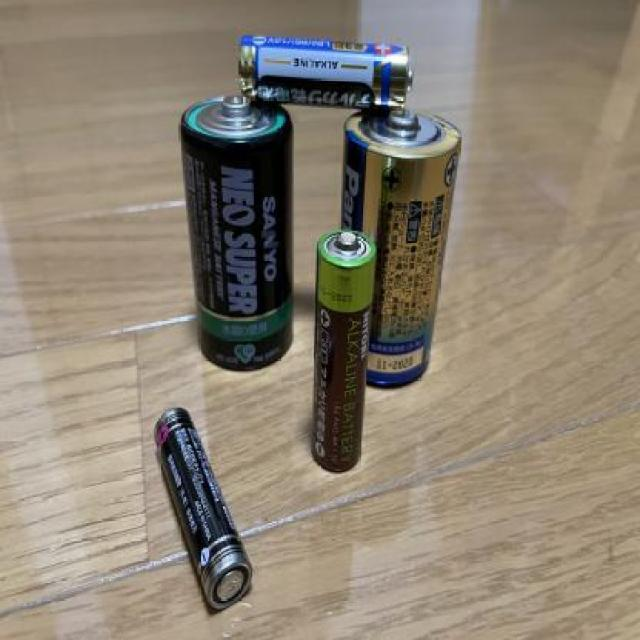hazardous waste: (318, 104, 464, 393), (177, 89, 296, 374), (152, 403, 257, 609), (304, 223, 378, 474), (237, 28, 417, 112)
